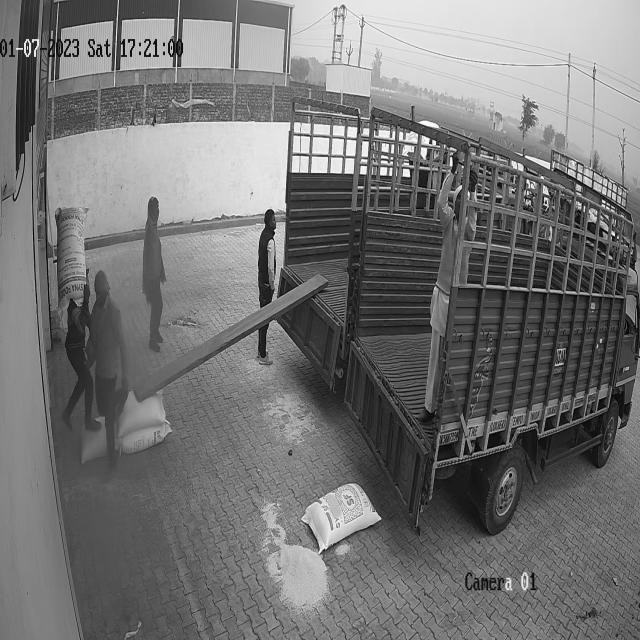sack: (301, 483, 382, 553), (55, 206, 86, 314), (116, 390, 166, 438), (118, 424, 170, 453)
